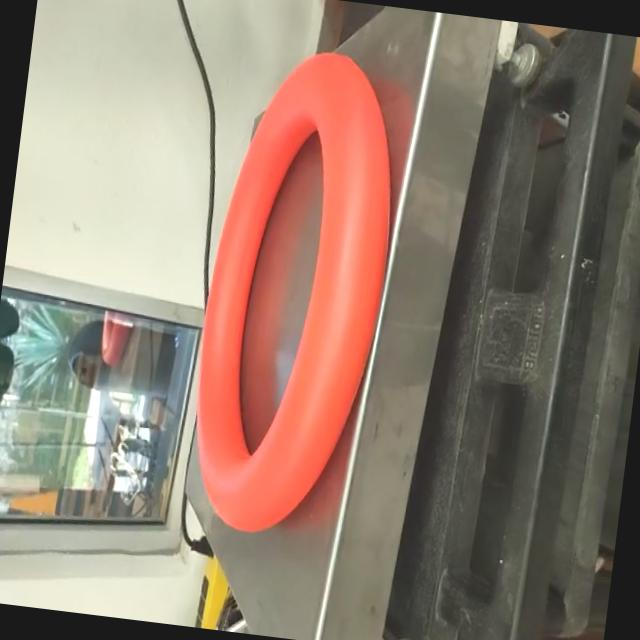note: (175, 37, 413, 540)
